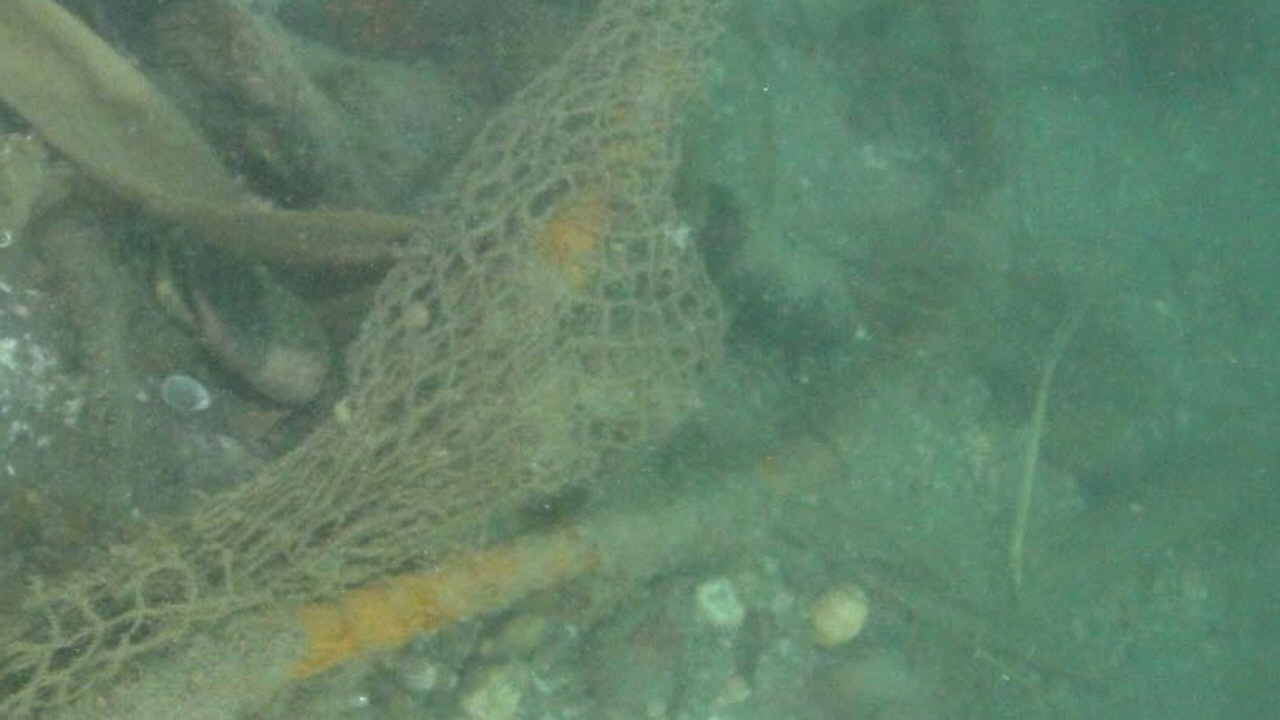fish net: (0, 0, 737, 720)
